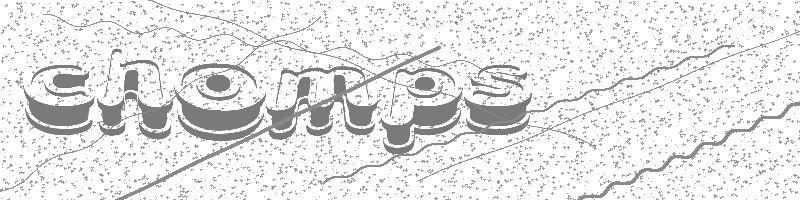c: (21, 56, 96, 138)
h: (98, 38, 174, 157)
m: (268, 65, 379, 142)
o: (172, 51, 266, 146)
p: (385, 61, 461, 156)
s: (463, 60, 535, 137)
